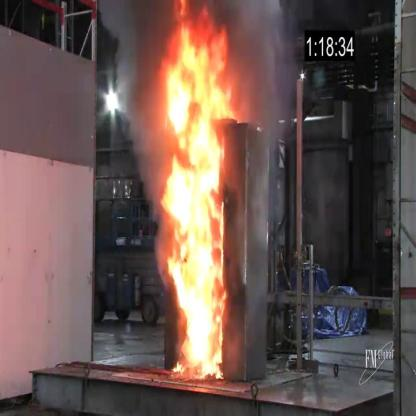fire: (159, 13, 237, 388)
